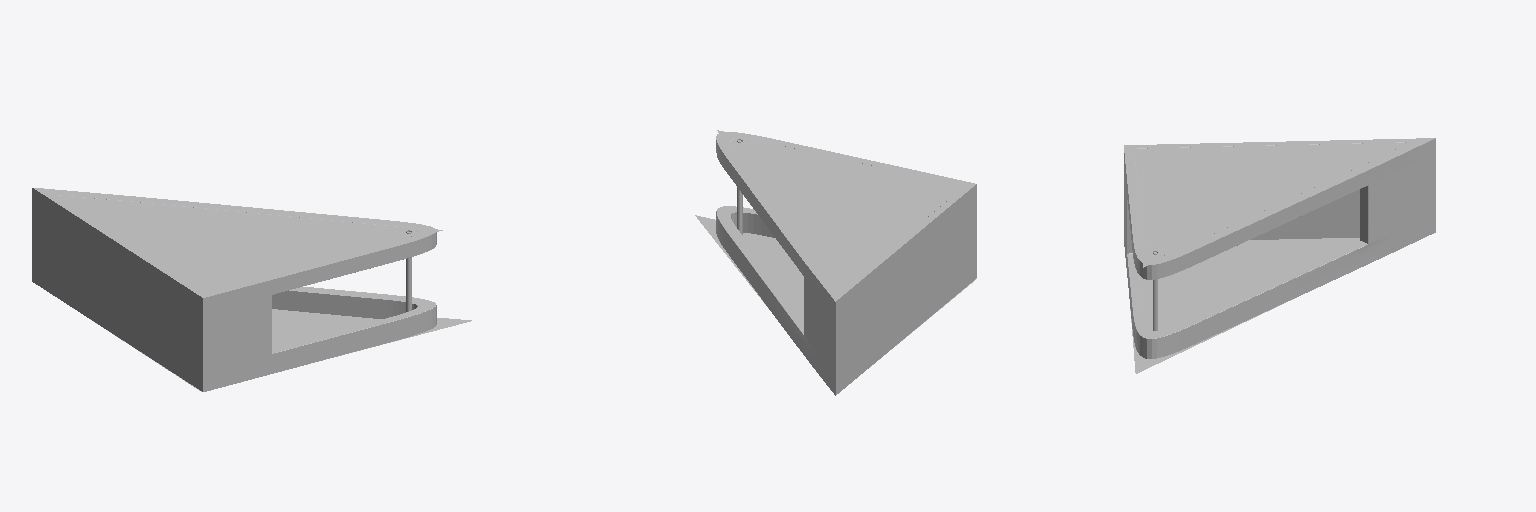
Rendered from diner.obj.
The picture shows the model from 3 angles: view 1: azimuth 30°, elevation 25°; view 2: azimuth 150°, elevation 25°; view 3: azimuth 270°, elevation 25°; orthographic projection.
Visible parts, largest first — view 1: Diner_Plane.007, Diner_Ceiling.001_Plane.006, Diner_Ceiling_Plane.003, Diner_Floor_Plane.005; view 2: Diner_Plane.007, Diner_Ceiling_Plane.003, Diner_Ceiling.001_Plane.006, Diner_Floor_Plane.005; view 3: Diner_Plane.007, Diner_Ceiling_Plane.003, Diner_Floor_Plane.005, Diner_Ceiling.001_Plane.006.
Boxes of the visible parts, x1,y1,x2,y2 form: Diner_Plane.007: [32, 188, 436, 391]; Diner_Ceiling.001_Plane.006: [54, 195, 442, 292]; Diner_Ceiling_Plane.003: [69, 202, 441, 292]; Diner_Floor_Plane.005: [73, 308, 471, 391]; Diner_Plane.007: [716, 132, 976, 395]; Diner_Ceiling_Plane.003: [731, 138, 963, 289]; Diner_Ceiling.001_Plane.006: [717, 130, 953, 289]; Diner_Floor_Plane.005: [695, 215, 976, 364]; Diner_Plane.007: [1124, 138, 1435, 358]; Diner_Ceiling_Plane.003: [1135, 143, 1402, 267]; Diner_Floor_Plane.005: [1130, 238, 1359, 373]; Diner_Ceiling.001_Plane.006: [1134, 142, 1409, 266].
Size of the model in its own units: 1.21 by 0.3784 by 1.12.